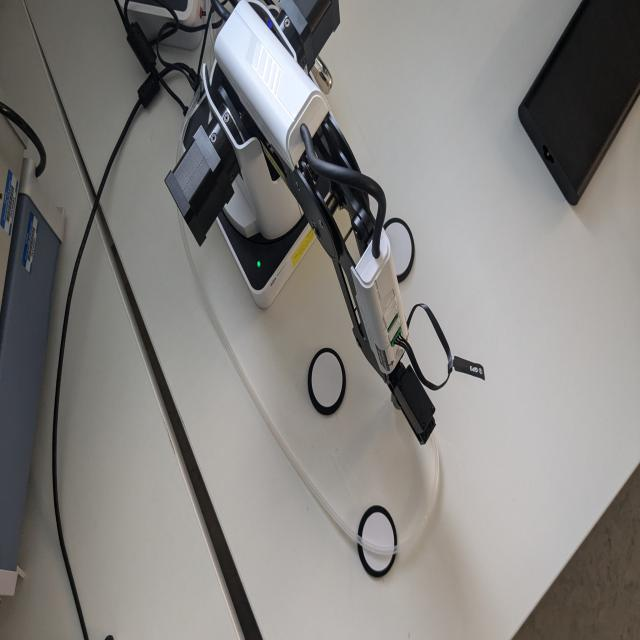Robot-end-effector-HF8z: (383, 362, 438, 448)
